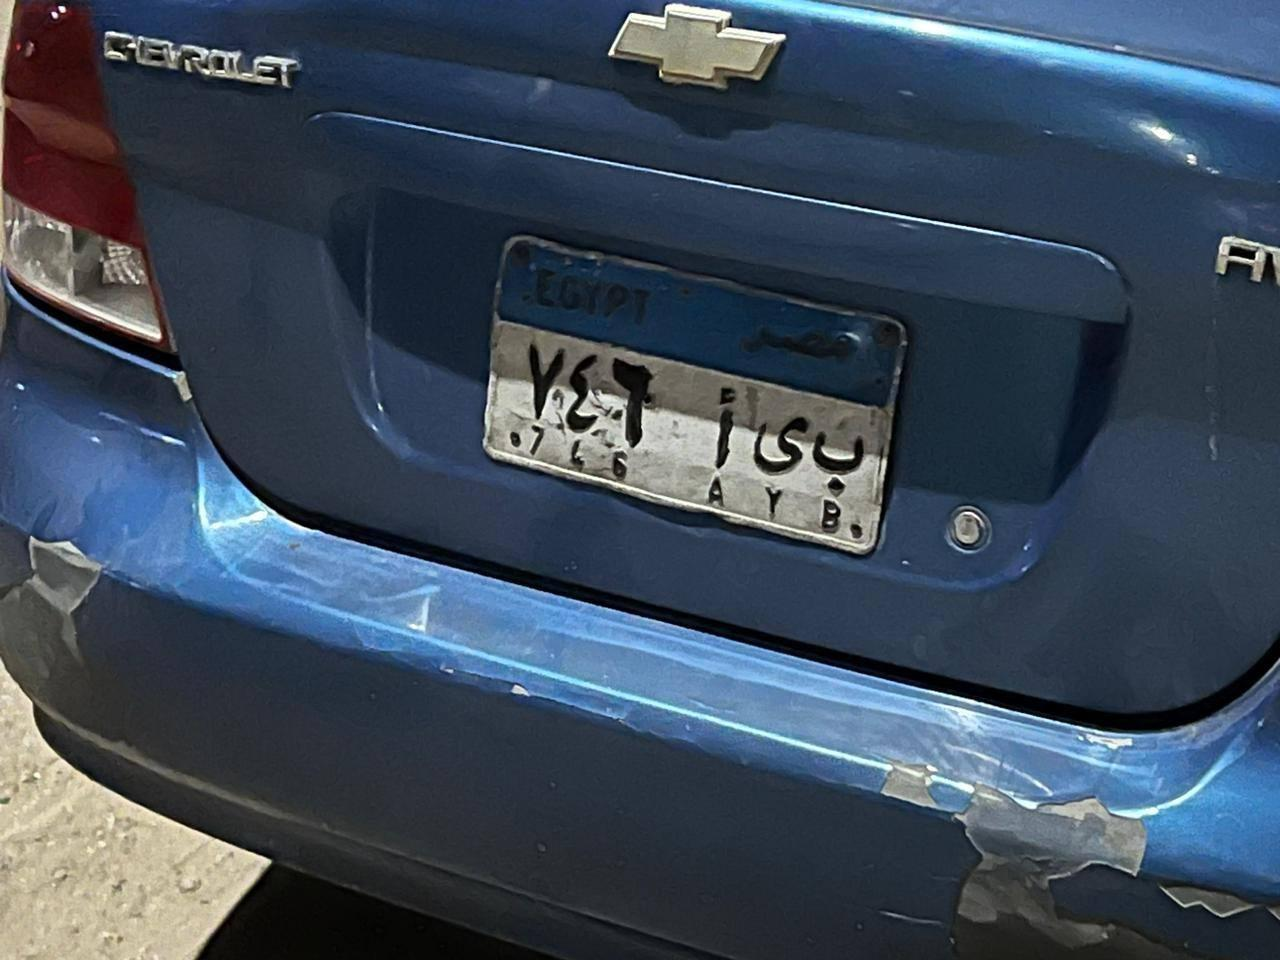4: (566, 342, 602, 437)
6: (603, 350, 661, 458)
7: (522, 338, 572, 424)
License Plate: (482, 225, 922, 569)
Yeeh: (752, 396, 809, 498)
alef: (712, 370, 738, 470)
baa: (796, 408, 868, 506)
